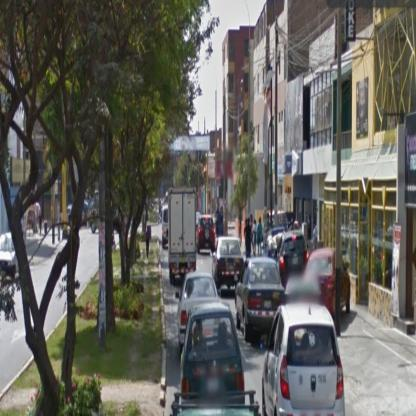Peaton: (246, 219, 253, 260), (258, 217, 264, 260), (147, 227, 151, 260)
Pista: (2, 236, 108, 397)
Vehiculo: (263, 305, 346, 415), (180, 306, 245, 407), (235, 261, 287, 338), (305, 246, 352, 318), (178, 274, 220, 351), (169, 185, 197, 290), (275, 231, 310, 288), (213, 237, 244, 294), (1, 233, 20, 288), (196, 214, 218, 260)
